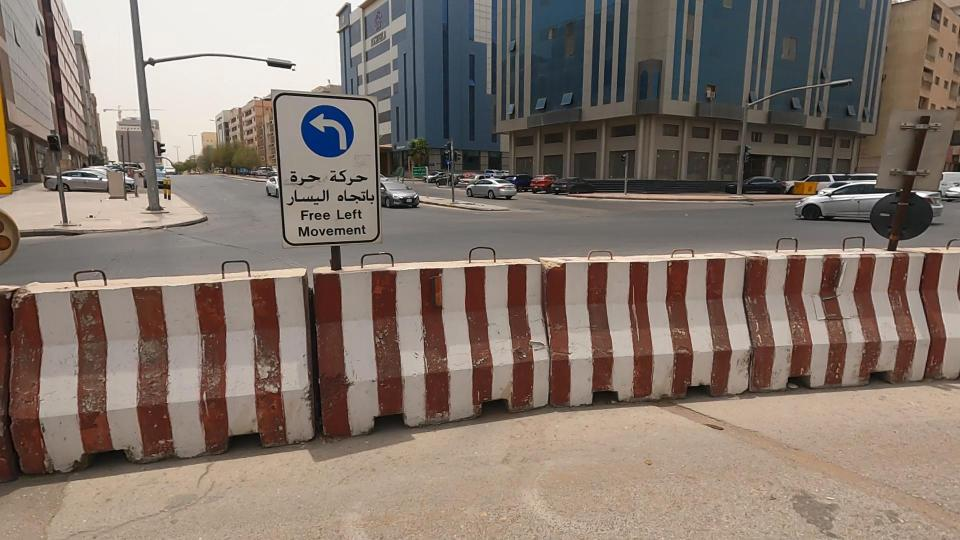CONSTRUCTION_ROAD: (290, 165, 960, 448), (0, 197, 538, 402)
